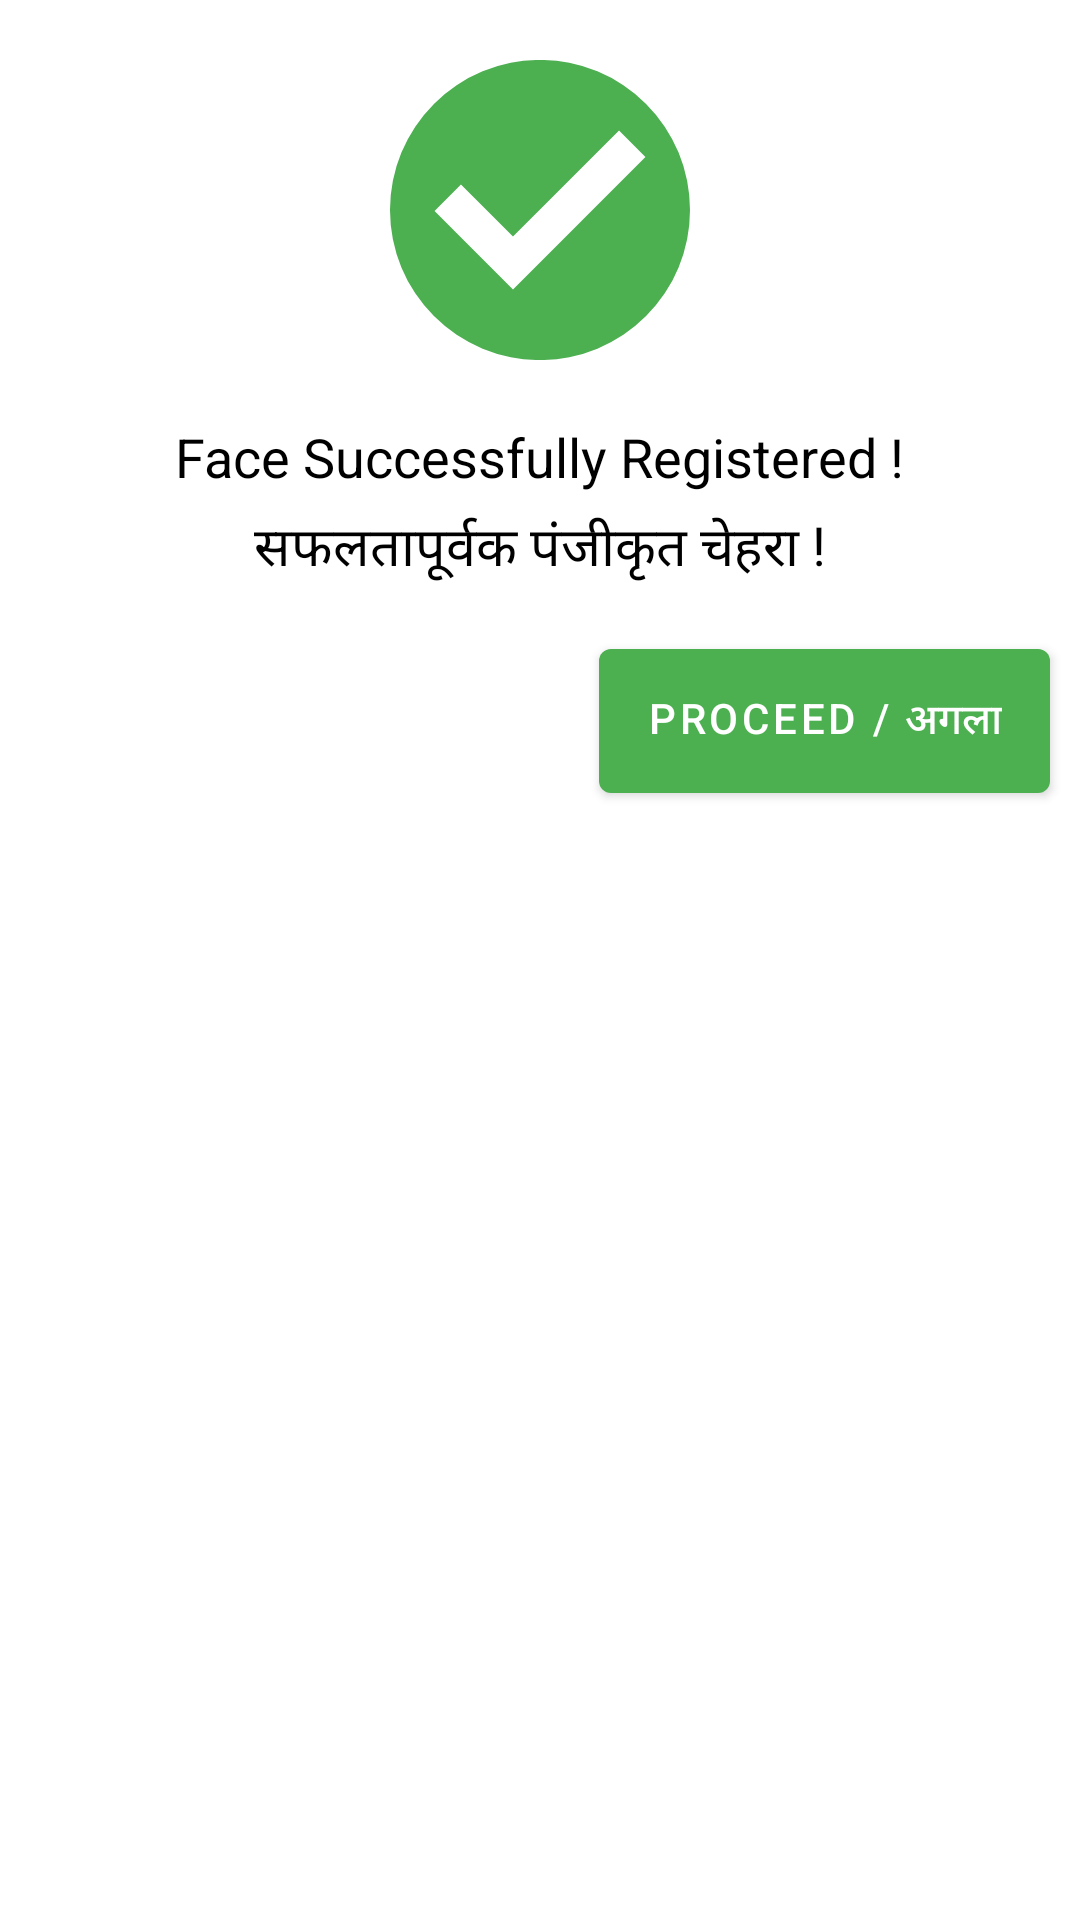

Icon bounding boxes for this 1080px×1920px phone screenshot, format (x1, y1, x2, y2):
tick round: (390, 60, 690, 360)
